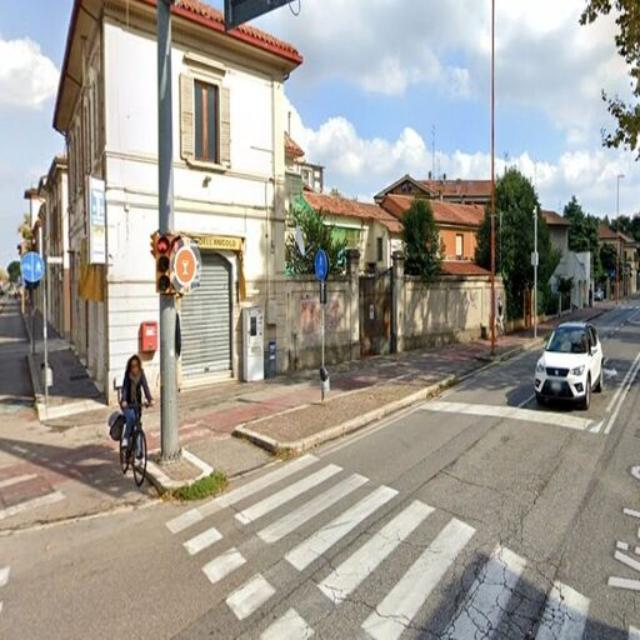sidewalk: (168, 452, 640, 640)
